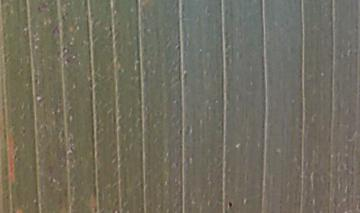tarspot: (224, 197, 236, 212)
